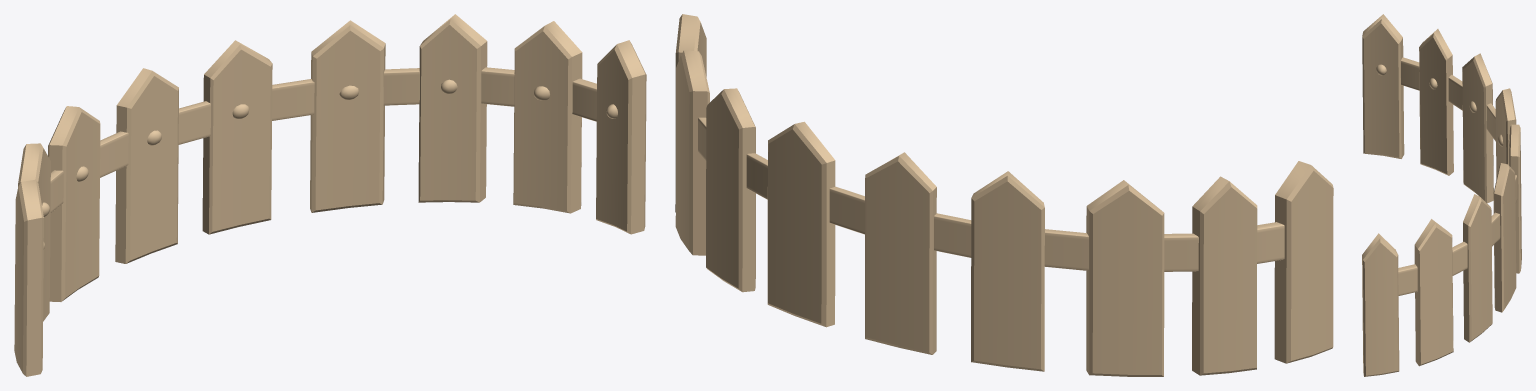
Rendered from cerca.fbx.
The picture shows the model from 3 angles, left to right: view 1: azimuth 30°, elevation 25°; view 2: azimuth 150°, elevation 25°; view 3: azimuth 270°, elevation 25°; orthographic projection. The views are drawn at different scales.
Visible parts, largest first — view 1: CERCA; view 2: CERCA; view 3: CERCA.
Part boxes in pixels (x1,y1,x2,y2): CERCA: (14,14,646,376); CERCA: (675,14,1333,376); CERCA: (1362,14,1521,376).
Bounding box in the file's own units: 13.6 × 3.96 × 4.05.
